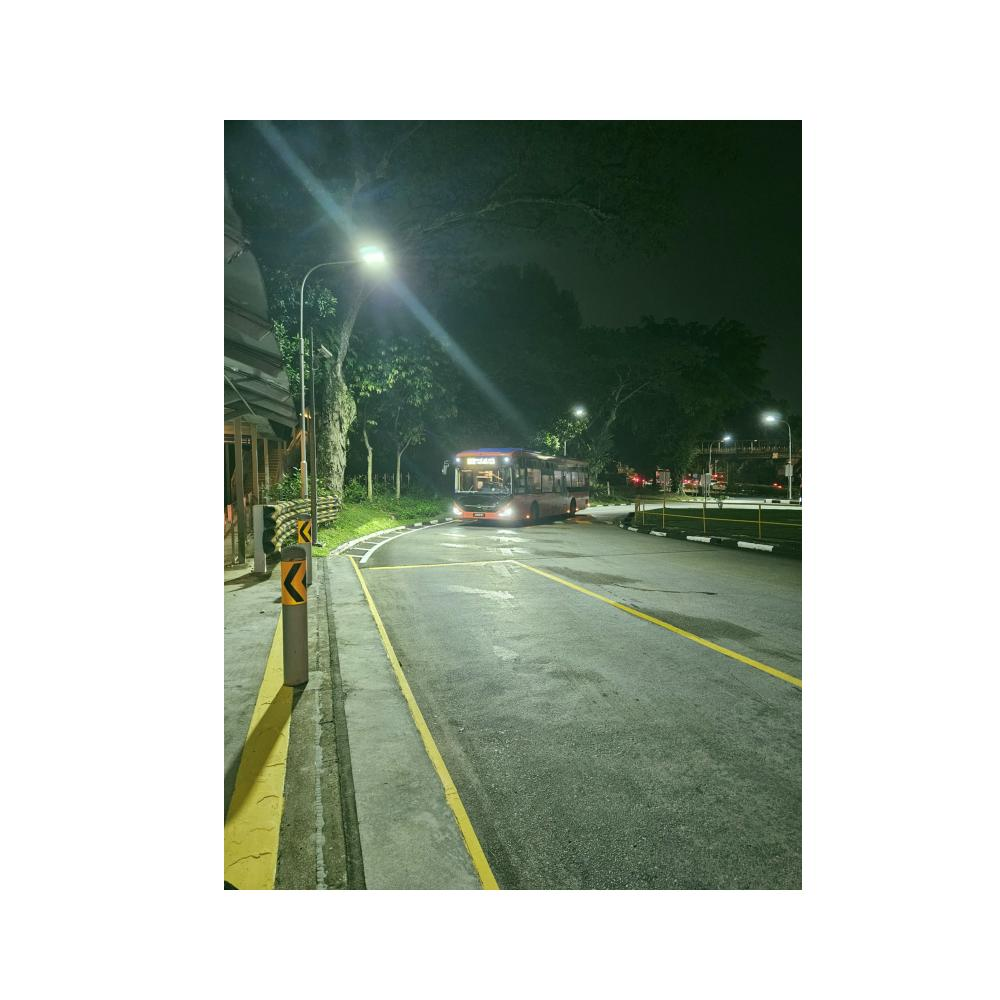bus: (438, 447, 594, 531)
